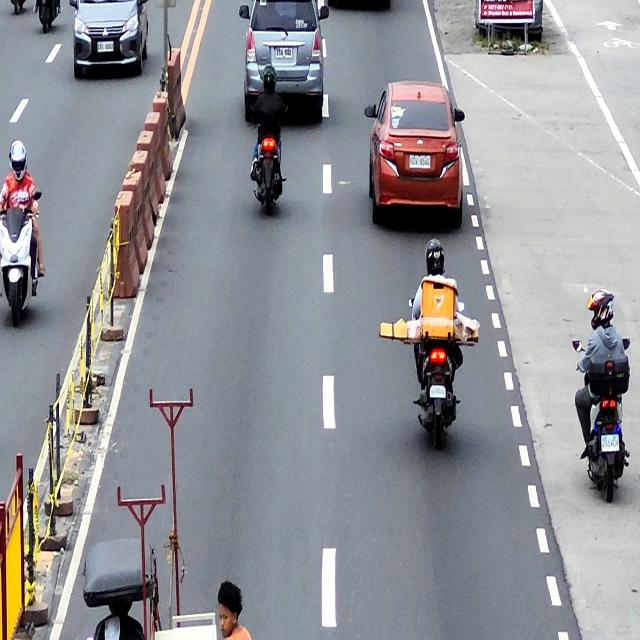Car: (366, 80, 466, 234), (239, 0, 329, 122), (68, 0, 149, 79)
License-Plate: (409, 154, 431, 169), (601, 435, 620, 452), (429, 384, 446, 398), (276, 46, 294, 59), (97, 41, 114, 52)
Motorcycle: (572, 335, 632, 504), (410, 294, 464, 450), (0, 188, 42, 329), (250, 103, 288, 213)
